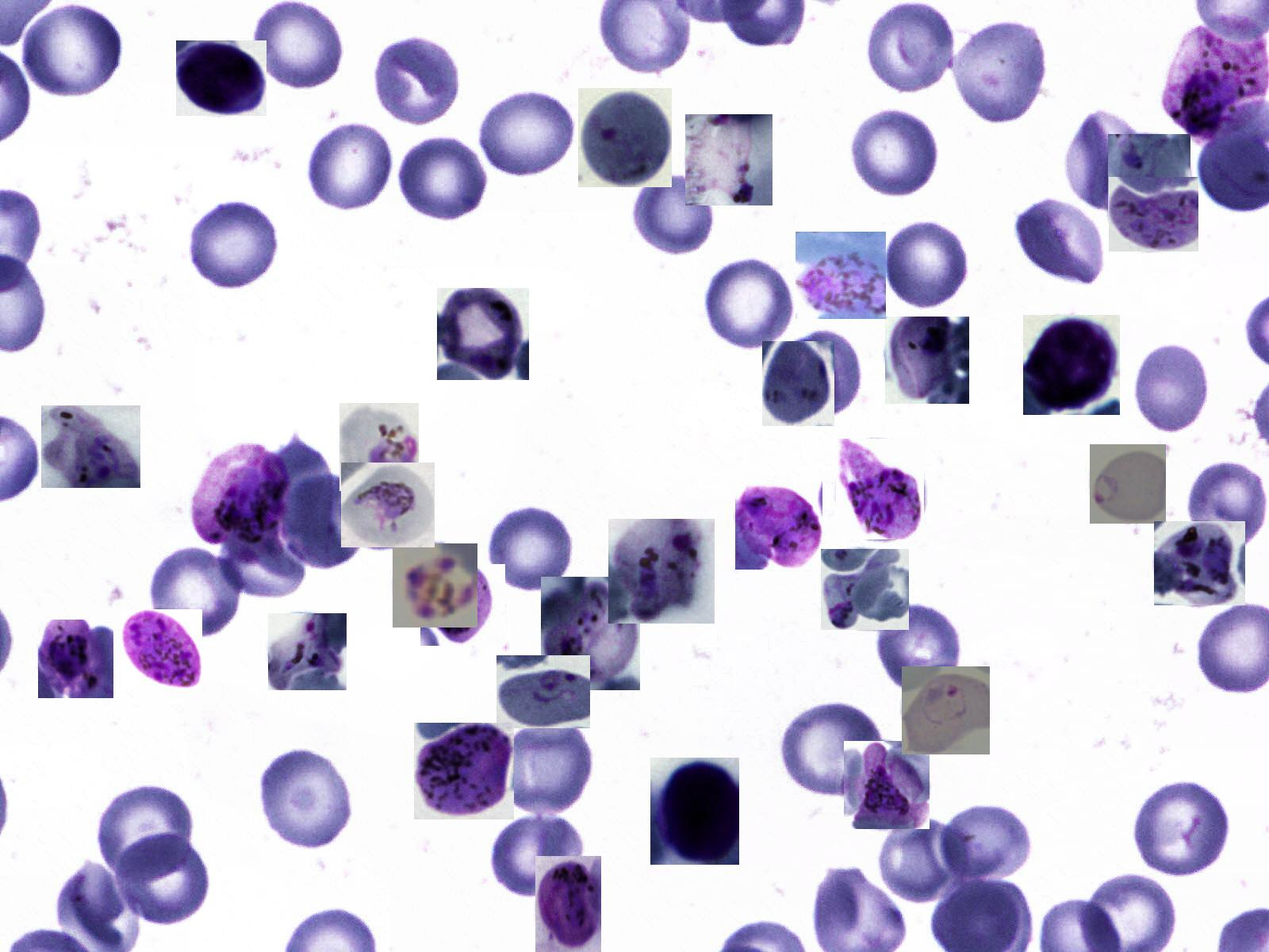Infected: (1163, 13, 1269, 145), (608, 519, 715, 624), (541, 577, 640, 690), (194, 446, 293, 558), (414, 723, 514, 820), (1023, 315, 1120, 415), (650, 758, 739, 865), (578, 88, 672, 187), (836, 439, 924, 539), (437, 288, 529, 380), (42, 405, 140, 488), (685, 114, 773, 205), (796, 232, 886, 319), (342, 463, 435, 547), (902, 666, 990, 754), (735, 482, 822, 570), (1154, 521, 1245, 605), (844, 741, 930, 829), (885, 317, 969, 404), (393, 543, 477, 628), (1108, 134, 1190, 221), (821, 549, 909, 630), (339, 403, 419, 491), (420, 564, 505, 646), (496, 655, 590, 728), (176, 40, 266, 116), (1109, 177, 1198, 251), (121, 609, 202, 689), (535, 856, 601, 952), (762, 341, 834, 426), (268, 613, 347, 690), (1090, 444, 1166, 524), (38, 620, 113, 698)
Uninfected: (780, 700, 888, 800), (256, 749, 357, 851), (97, 781, 197, 883), (697, 255, 799, 351), (1132, 781, 1230, 879), (493, 718, 593, 814), (112, 832, 211, 927), (954, 21, 1047, 121), (483, 500, 578, 595), (280, 474, 374, 570), (21, 6, 121, 95), (849, 104, 943, 198), (1011, 196, 1107, 286), (374, 35, 465, 129), (875, 602, 966, 695), (1070, 110, 1152, 213), (151, 547, 241, 640), (478, 93, 575, 179), (868, 1, 957, 91), (398, 132, 486, 223), (188, 202, 278, 290), (491, 816, 585, 900), (304, 124, 393, 211), (1187, 458, 1267, 554), (255, 1, 341, 88), (880, 820, 969, 904), (1135, 340, 1211, 436), (942, 804, 1032, 885), (888, 220, 967, 308), (631, 175, 716, 256), (789, 332, 861, 415), (222, 536, 308, 599)
